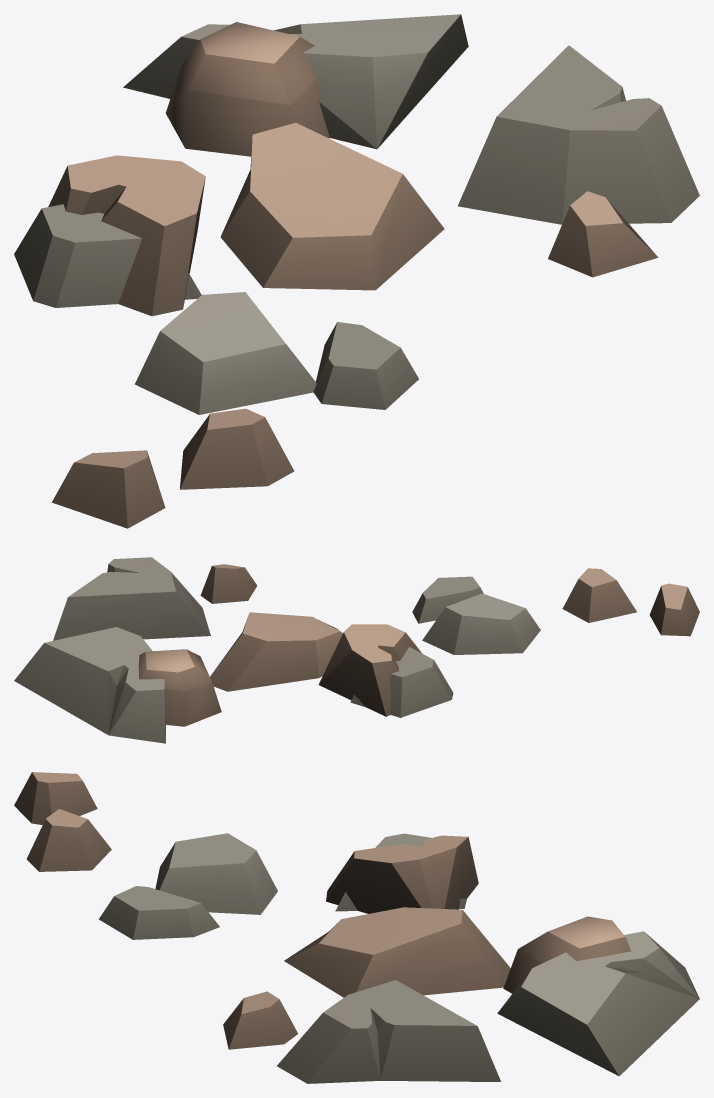
The model's file is Rock_Cluster_6A.fbx.
The picture shows the model from 3 angles, top to bottom: view 1: azimuth 30°, elevation 25°; view 2: azimuth 150°, elevation 25°; view 3: azimuth 270°, elevation 25°; orthographic projection. The views are drawn at different scales.
Parts seen in each view (by area): view 1: Rock_Cluster_6A; view 2: Rock_Cluster_6A; view 3: Rock_Cluster_6A.
Boxes of the visible parts, x1,y1,x2,y2 form: Rock_Cluster_6A: (14, 14, 699, 528); Rock_Cluster_6A: (14, 557, 699, 743); Rock_Cluster_6A: (14, 772, 699, 1083).
Size of the model in its own units: 1.79 by 0.1853 by 1.79.
